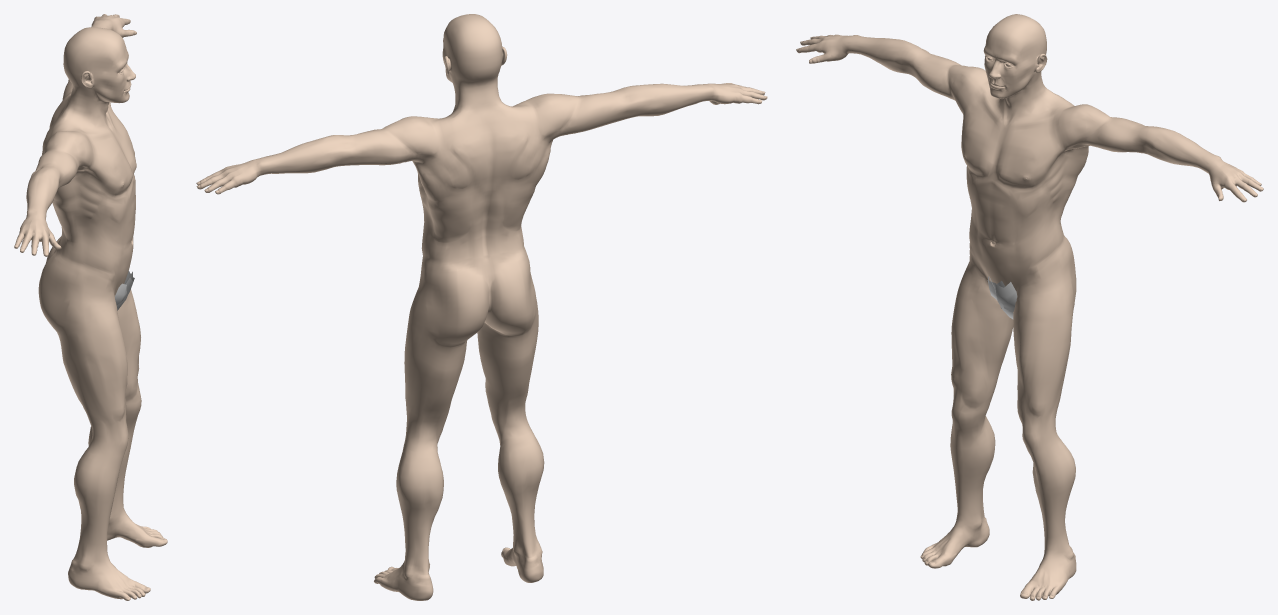
Rendered from man.glb.
The picture shows the model from 3 angles, left to right: view 1: azimuth 30°, elevation 25°; view 2: azimuth 150°, elevation 25°; view 3: azimuth 270°, elevation 25°; orthographic projection. The views are drawn at different scales.
Parts seen in each view (by area): view 1: Male_Base; view 2: Male_Base; view 3: Male_Base.
Boxes of the visible parts, x1,y1,x2,y2 form: Male_Base: (14, 14, 167, 600); Male_Base: (196, 14, 767, 600); Male_Base: (796, 14, 1263, 600).
Size of the model in its own units: 0.4726 by 0.7504 by 0.5818.
